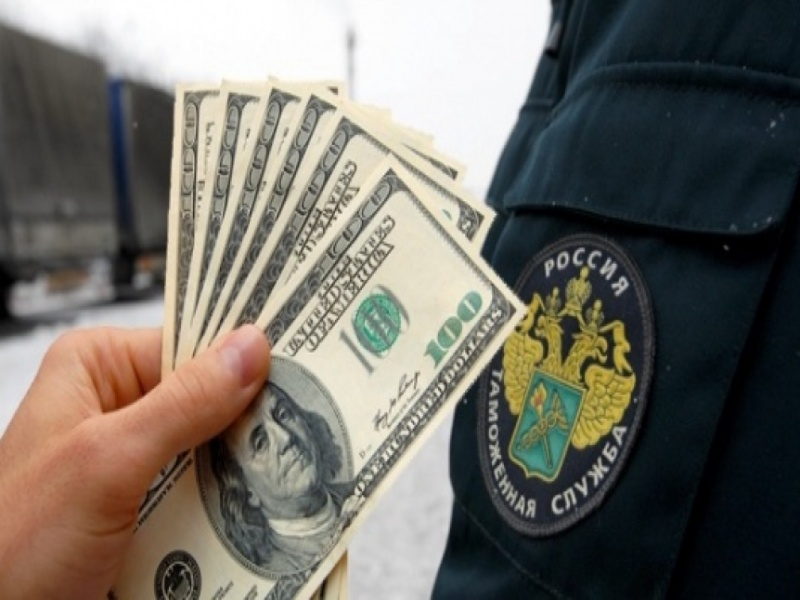cash: (108, 73, 526, 600)
